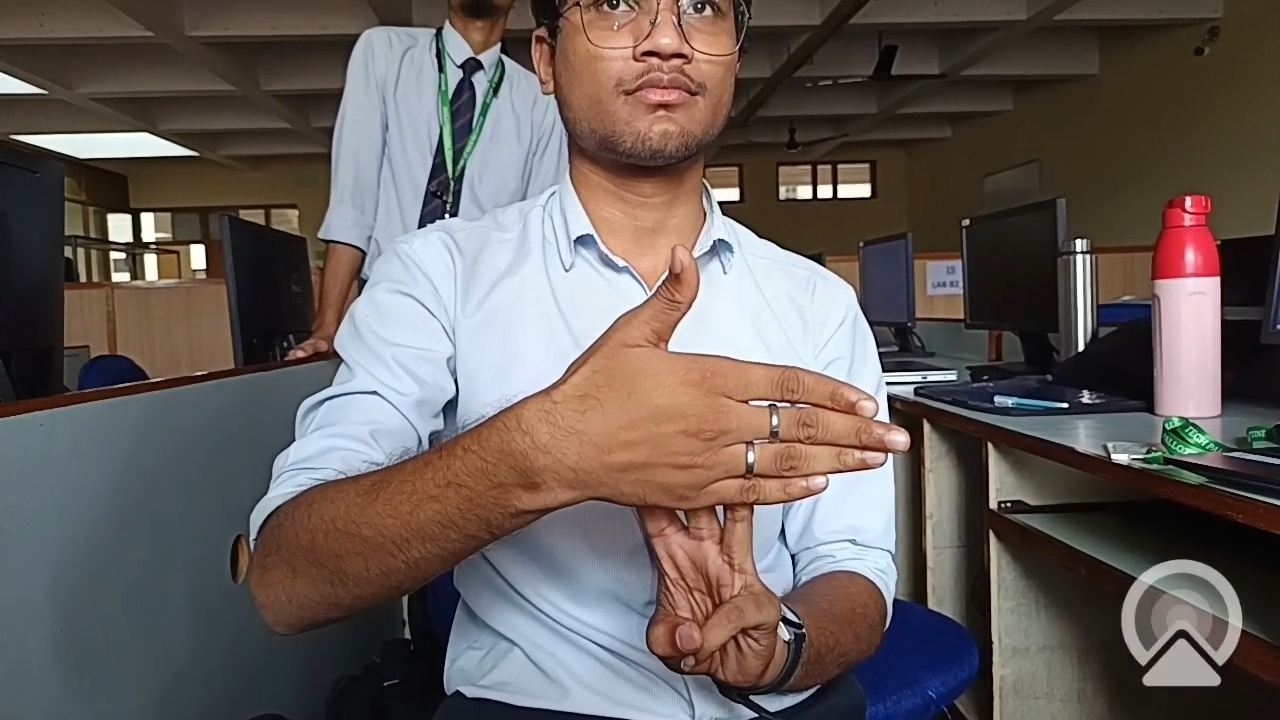M: (541, 224, 939, 695)
